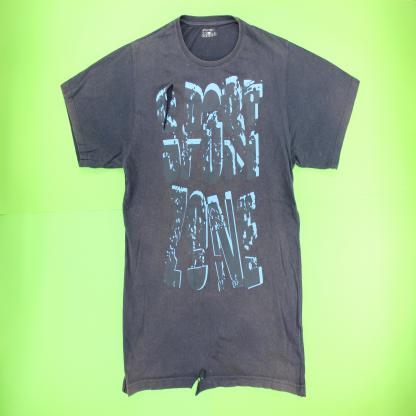hole: (161, 80, 175, 134), (190, 367, 208, 398)
